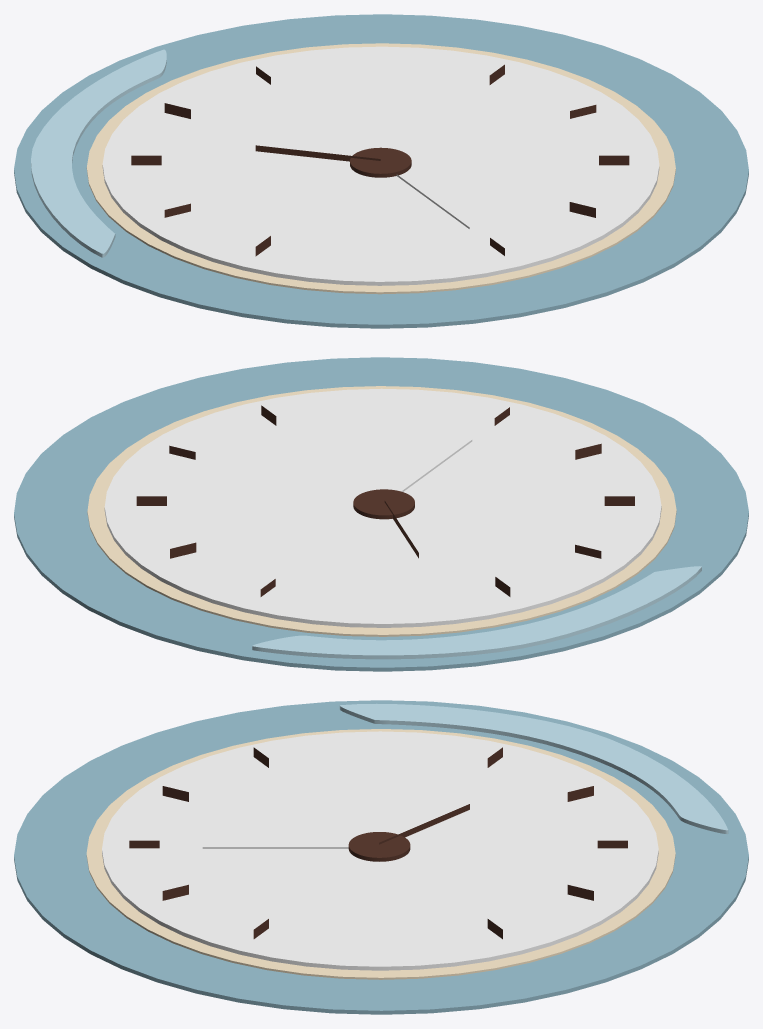
The model's file is emoji_u1f565.glb.
3 views of the same model, one above another, from view 1: azimuth 30°, elevation 25°; view 2: azimuth 150°, elevation 25°; view 3: azimuth 270°, elevation 25° (orthographic).
Parts seen in each view (by area): view 1: emoji_u1f565; view 2: emoji_u1f565; view 3: emoji_u1f565.
Boxes of the visible parts, x1=… form: emoji_u1f565: x1=14, y1=14, x2=748, y2=328; emoji_u1f565: x1=14, y1=357, x2=748, y2=671; emoji_u1f565: x1=14, y1=700, x2=748, y2=1014.
Size of the model in its own units: 0.0339 by 0.0018 by 0.0339.
